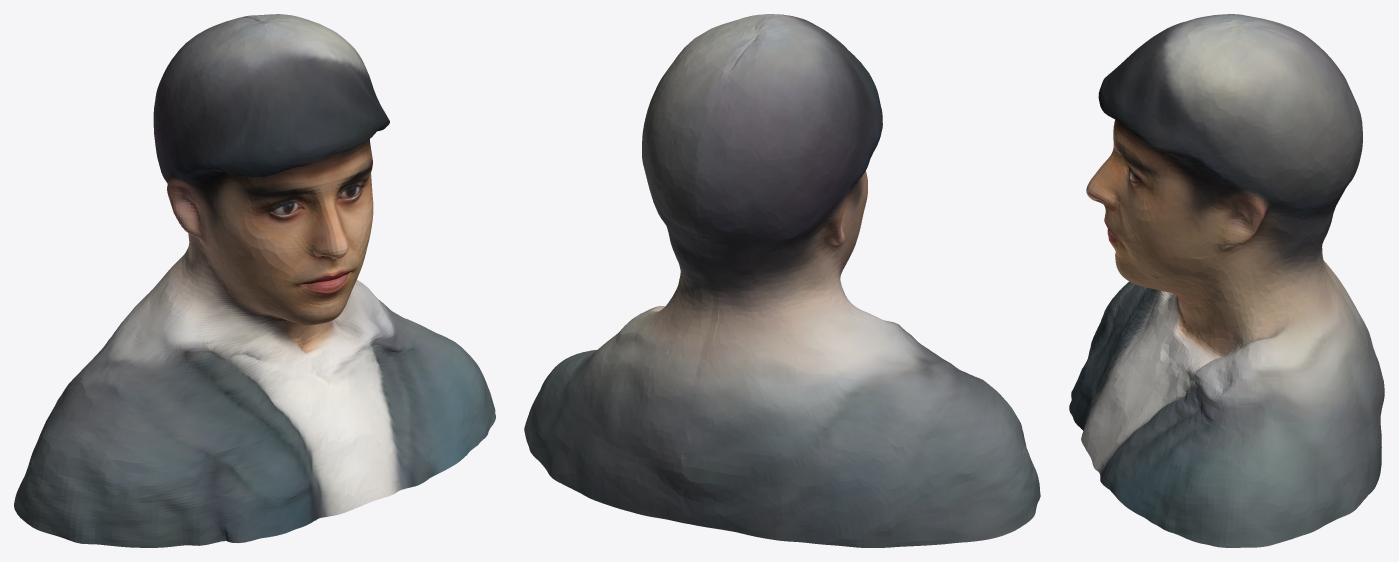
3 views of the same model, side by side, from view 1: azimuth 30°, elevation 25°; view 2: azimuth 150°, elevation 25°; view 3: azimuth 270°, elevation 25° (orthographic). The views are drawn at different scales.
Visible parts, largest first — view 1: Head; view 2: Head; view 3: Head.
Part boxes in pixels (left/top/right/bottom): Head: left=14, top=14, right=495, bottom=547; Head: left=524, top=14, right=1040, bottom=547; Head: left=1069, top=14, right=1384, bottom=547.
Bounding box in the file's own units: 0.4471 × 0.3932 × 0.2664.
1 material, 1 textured.
